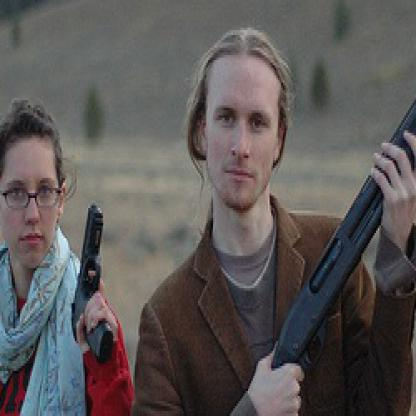gun: (68, 203, 112, 371)
